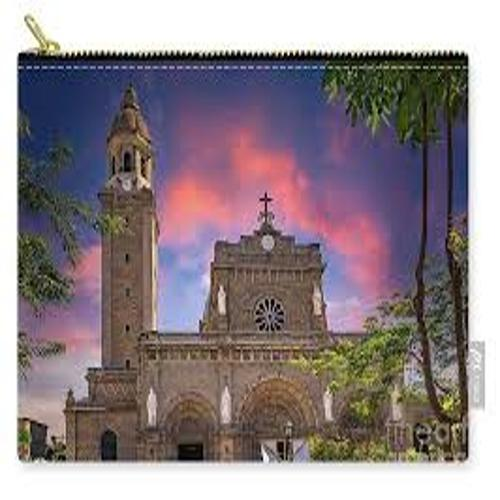Manila Cathedral Church: (47, 79, 415, 453)
